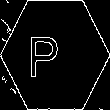P_N: (39, 30, 71, 80)
